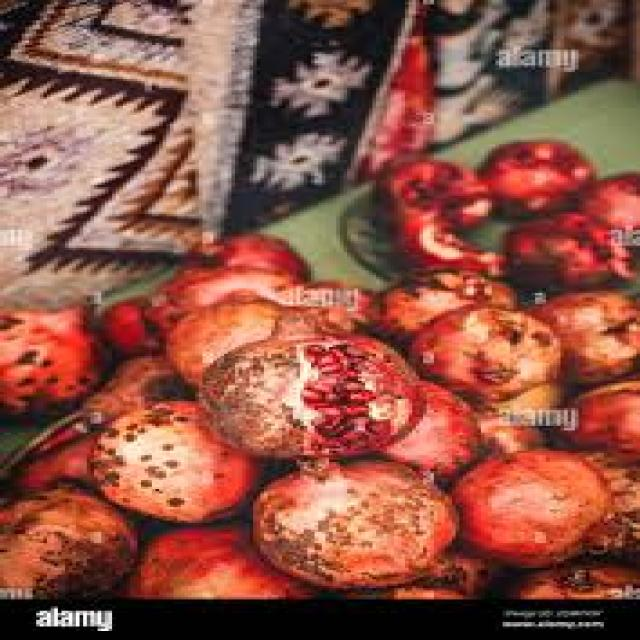overripe: (193, 314, 428, 462), (250, 466, 458, 593), (452, 439, 640, 559), (84, 396, 256, 524), (0, 483, 139, 599), (431, 301, 563, 398)
